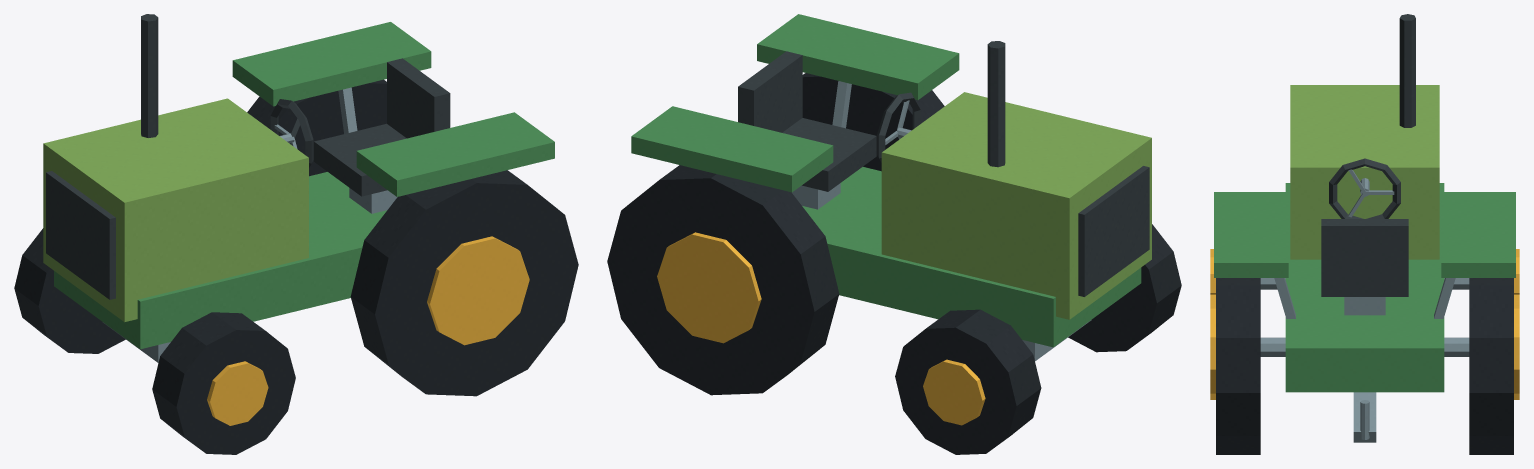
Rendered from tractor.glb.
3 views of the same model, side by side, from view 1: azimuth 30°, elevation 25°; view 2: azimuth 150°, elevation 25°; view 3: azimuth 270°, elevation 25° (orthographic). The views are drawn at different scales.
Visible parts, largest first — view 1: Engine hood 013, Tractor tyre 006, Tractor chassis 012, Tractor tyre 001, Rear fender 024, Rear fender 026, Tractor hub 007, Grille 014, Tractor tyre 003, Tractor tyre 008, Seat back 017, Operator seat 016 (+5 smaller); view 2: Engine hood 013, Tractor tyre 008, Tractor chassis 012, Tractor tyre 003, Rear fender 026, Rear fender 024, Tractor hub 009, Grille 014, Tractor tyre 001, Tractor tyre 006, Seat back 017, Operator seat 016 (+5 smaller); view 3: Engine hood 013, Tractor chassis 012, Tractor tyre 006, Tractor tyre 008, Seat back 017, Rear fender 024, Rear fender 026, Exhaust 018, Steering wheel 019, Tractor axle 010, Tractor hitch support 028, Seat pedestal 015 (+6 smaller).
Boxes of the visible parts, x1,y1,x2,y2 form: Engine hood 013: [43, 98, 308, 322]; Tractor tyre 006: [350, 170, 578, 396]; Tractor chassis 012: [54, 172, 386, 349]; Tractor tyre 001: [152, 312, 295, 454]; Rear fender 024: [356, 112, 554, 196]; Rear fender 026: [232, 22, 431, 106]; Tractor hub 007: [427, 236, 529, 345]; Grille 014: [46, 171, 115, 299]; Tractor tyre 003: [14, 228, 125, 353]; Tractor tyre 008: [247, 79, 386, 176]; Seat back 017: [387, 58, 450, 138]; Operator seat 016: [314, 123, 406, 196]; Engine hood 013: [881, 92, 1151, 319]; Tractor tyre 008: [607, 165, 839, 395]; Tractor chassis 012: [802, 167, 1141, 347]; Tractor tyre 003: [895, 309, 1041, 454]; Rear fender 026: [631, 106, 833, 192]; Rear fender 024: [757, 14, 959, 100]; Tractor hub 009: [657, 232, 761, 343]; Grille 014: [1078, 166, 1149, 296]; Tractor tyre 001: [1068, 224, 1181, 352]; Tractor tyre 006: [802, 73, 944, 171]; Seat back 017: [738, 51, 802, 132]; Operator seat 016: [782, 118, 876, 191]; Engine hood 013: [1290, 85, 1439, 259]; Tractor chassis 012: [1285, 183, 1444, 392]; Tractor tyre 006: [1216, 278, 1260, 454]; Tractor tyre 008: [1469, 278, 1513, 454]; Seat back 017: [1321, 219, 1408, 296]; Rear fender 024: [1214, 192, 1288, 277]; Rear fender 026: [1441, 192, 1515, 277]; Exhaust 018: [1399, 14, 1415, 127]; Steering wheel 019: [1329, 158, 1400, 218]; Tractor axle 010: [1260, 337, 1469, 356]; Tractor hitch support 028: [1353, 392, 1376, 442]; Seat pedestal 015: [1344, 297, 1385, 315].
Bounding box in the file's own units: 2.48 × 1.94 × 1.66.
6 materials, 6 textured.
